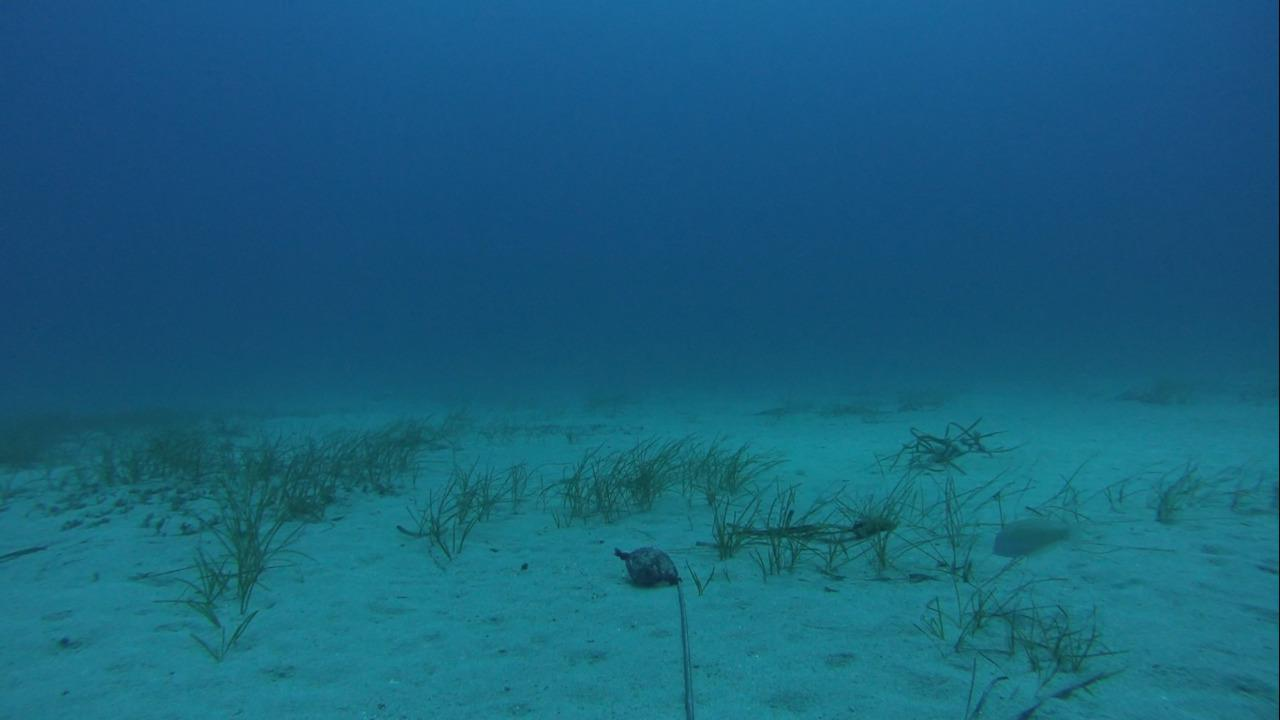raor: (990, 512, 1075, 559)
